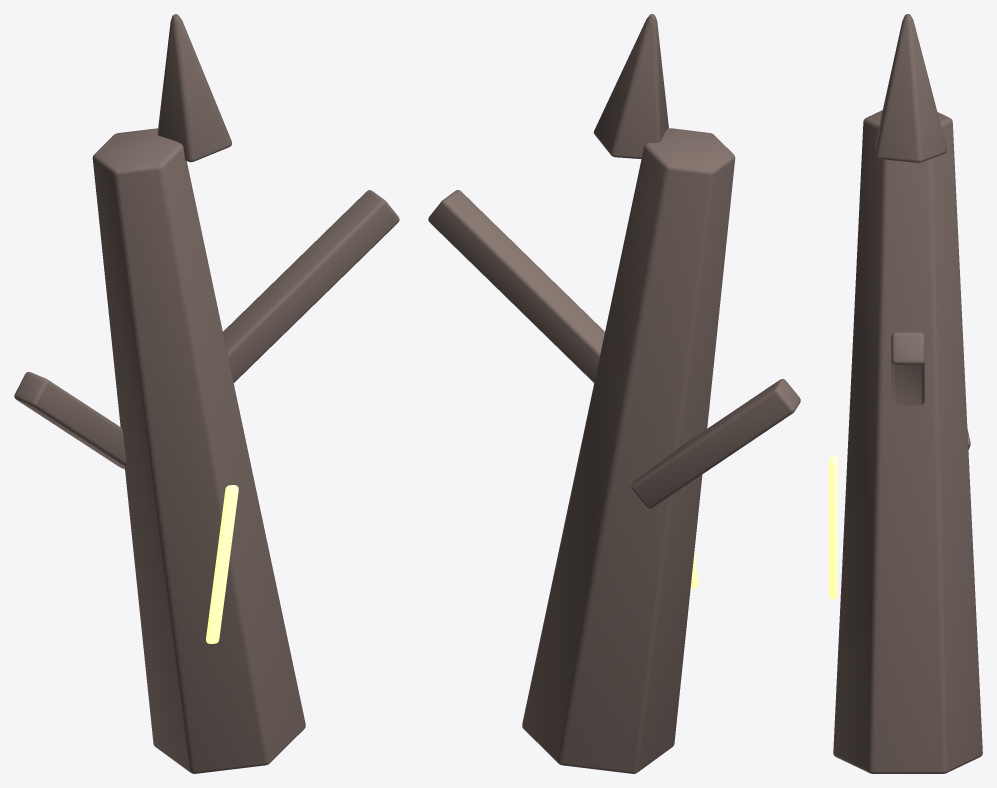
The model's file is ENV_Ember_BurntTree_2_S.fbx.
3 views of the same model, side by side, from view 1: azimuth 30°, elevation 25°; view 2: azimuth 150°, elevation 25°; view 3: azimuth 270°, elevation 25° (orthographic). The views are drawn at different scales.
Parts seen in each view (by area): view 1: ENV_Ember_BurntTree_2_S; view 2: ENV_Ember_BurntTree_2_S; view 3: ENV_Ember_BurntTree_2_S.
Boxes of the visible parts, x1=… form: ENV_Ember_BurntTree_2_S: x1=14, y1=14, x2=399, y2=773; ENV_Ember_BurntTree_2_S: x1=428, y1=14, x2=800, y2=773; ENV_Ember_BurntTree_2_S: x1=829, y1=14, x2=982, y2=773.
Bounding box in the file's own units: 1.49 × 2.89 × 0.555.
